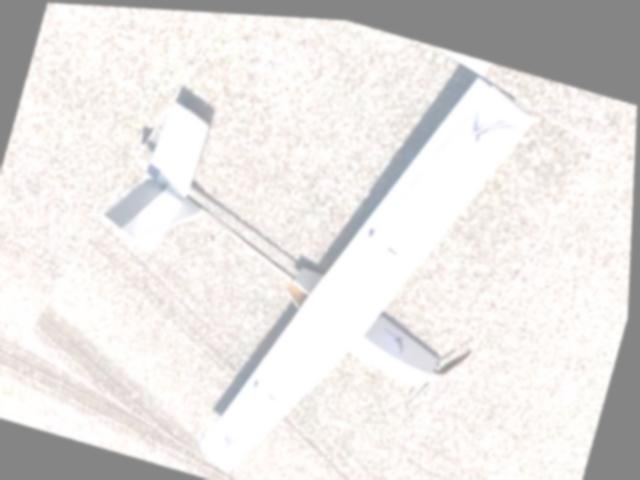insansiz-hava-araci: (31, 2, 586, 480)
